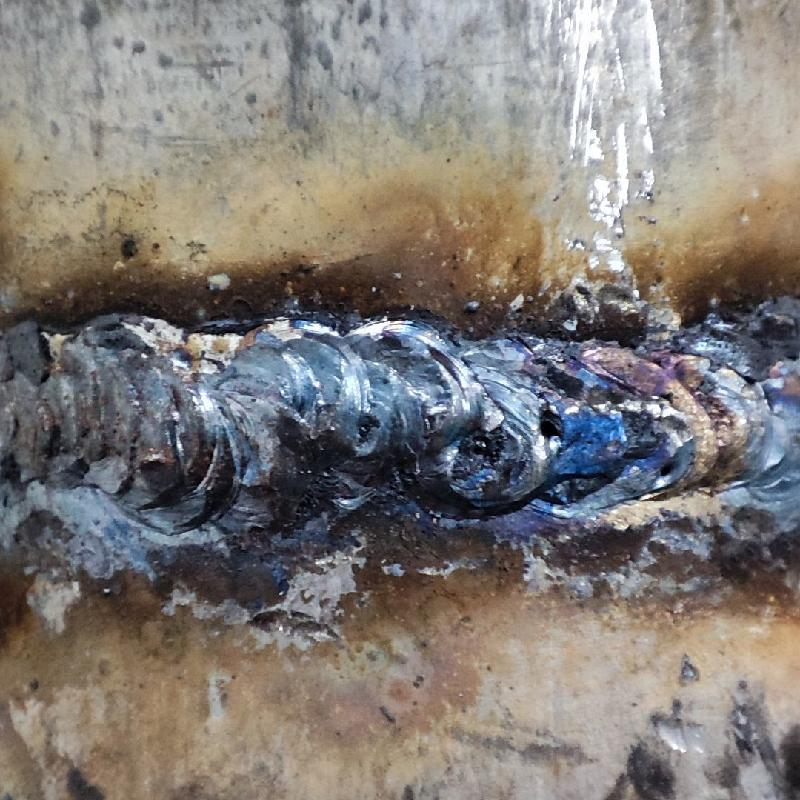Surface_pores: (518, 395, 582, 446), (653, 451, 686, 488)
good: (1, 307, 799, 533)
